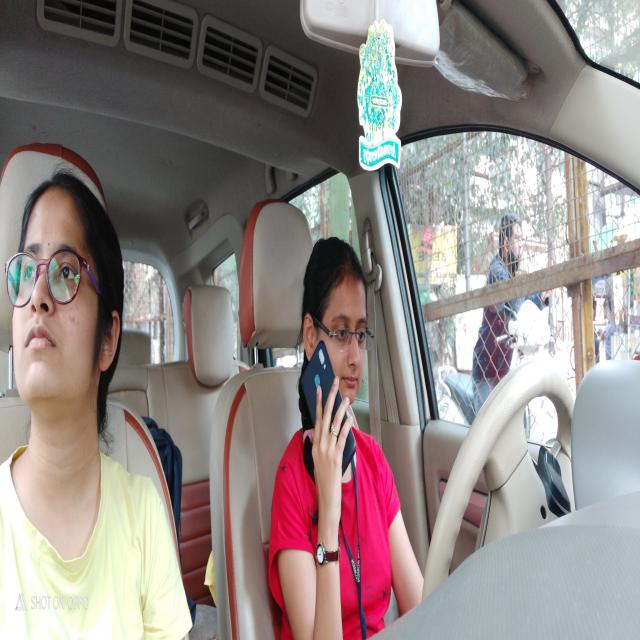mobile: (294, 358, 356, 478)
person: (8, 177, 121, 403), (299, 230, 370, 406)
